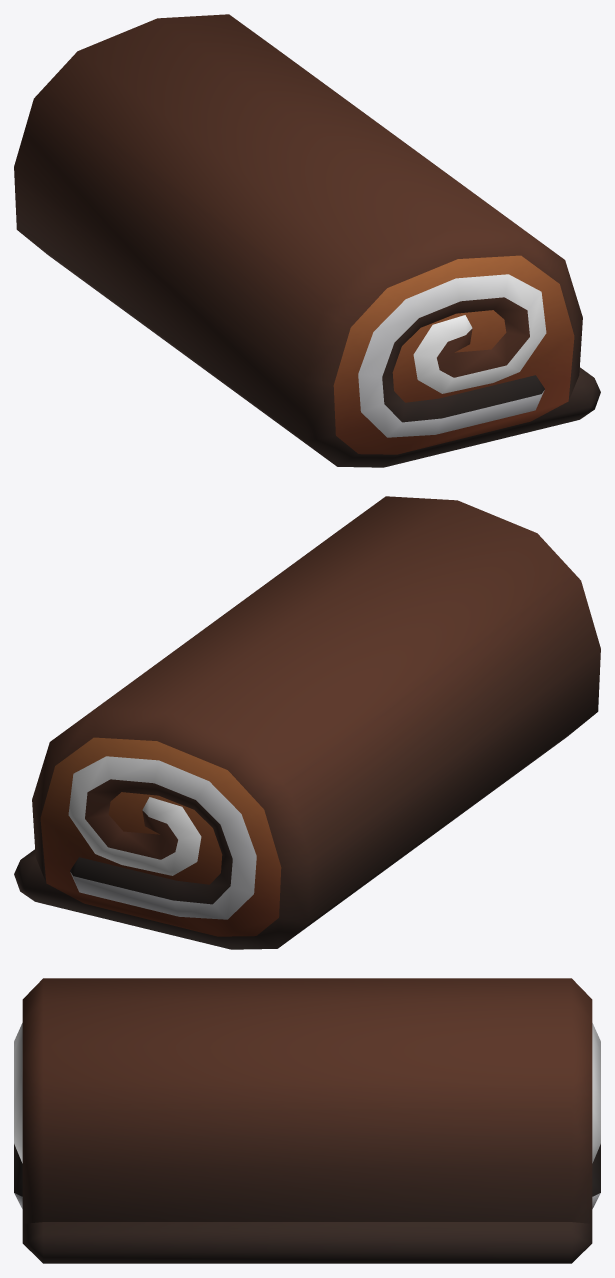
Rendered from m_BiscuitRoll01.fbx.
3 views of the same model, one above another, from view 1: azimuth 30°, elevation 25°; view 2: azimuth 150°, elevation 25°; view 3: azimuth 270°, elevation 25° (orthographic). The views are drawn at different scales.
Parts seen in each view (by area): view 1: m_BiscuitRoll01; view 2: m_BiscuitRoll01; view 3: m_BiscuitRoll01.
Boxes of the visible parts, left/top/right/bottom form: m_BiscuitRoll01: left=14, top=14, right=600, bottom=467; m_BiscuitRoll01: left=14, top=496, right=600, bottom=949; m_BiscuitRoll01: left=14, top=978, right=600, bottom=1263.
Size of the model in its own units: 10.68 by 7.61 by 20.
